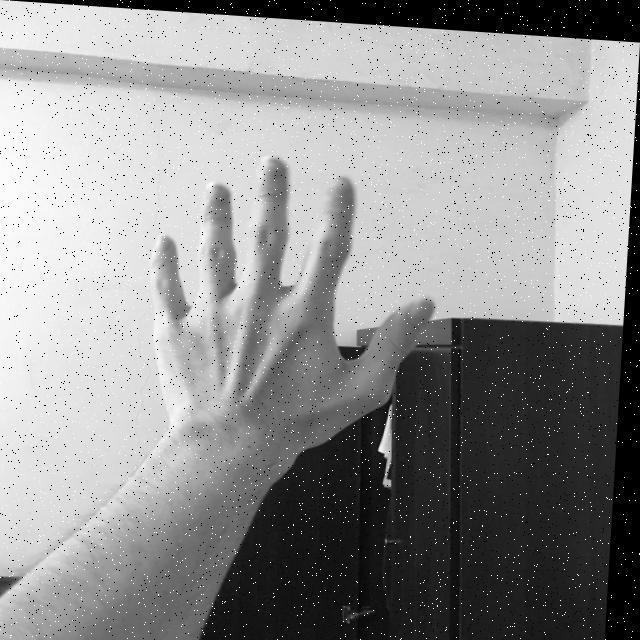no-gloves: (142, 140, 450, 452)
